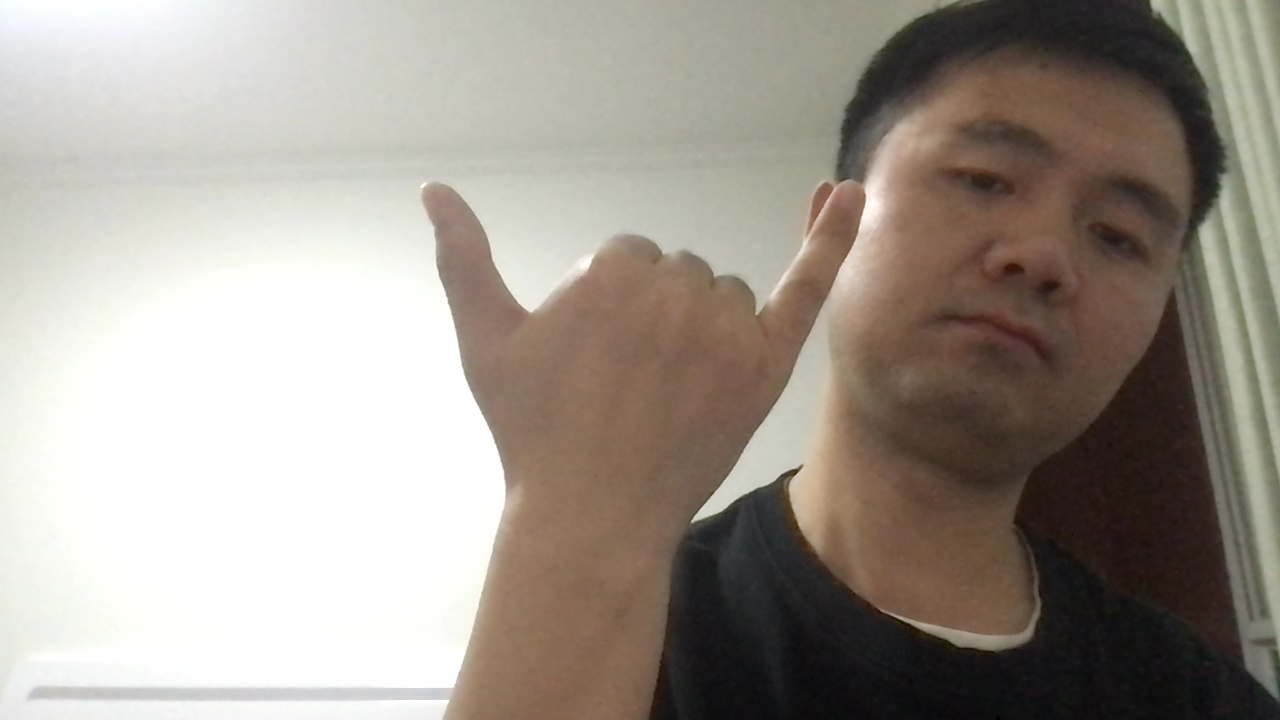iloveyou: (409, 161, 865, 515)
